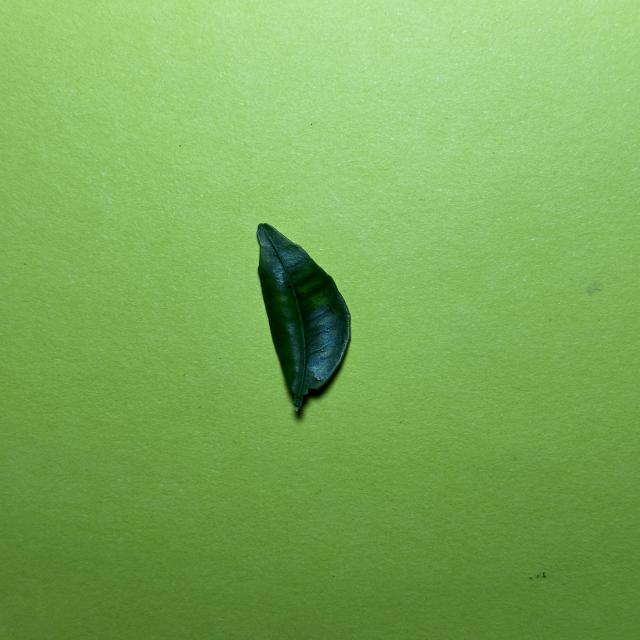greening: (257, 224, 350, 411)
